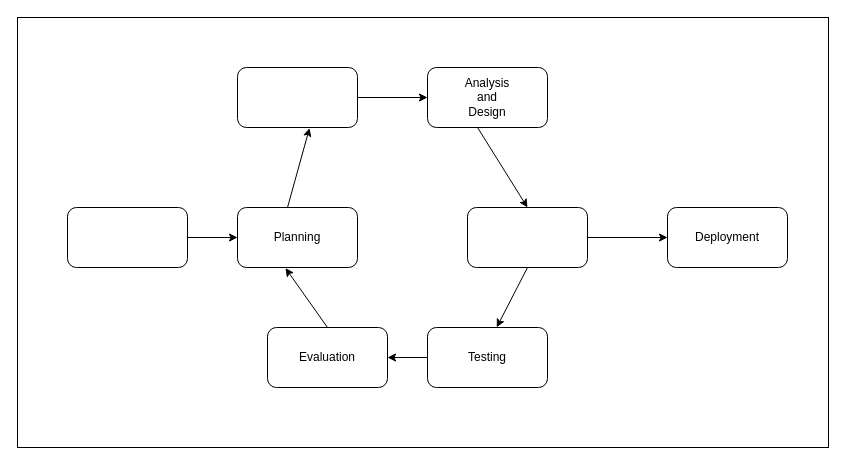
Image size: 846x465. Some labels were removed from this diagram. Here are the shapes that lost their labels. From the top down, the centre of each, then its label:
At pixel 297 97: "Requirements".
At pixel 127 237: "Initial planning".
At pixel 527 237: "Implementation".
